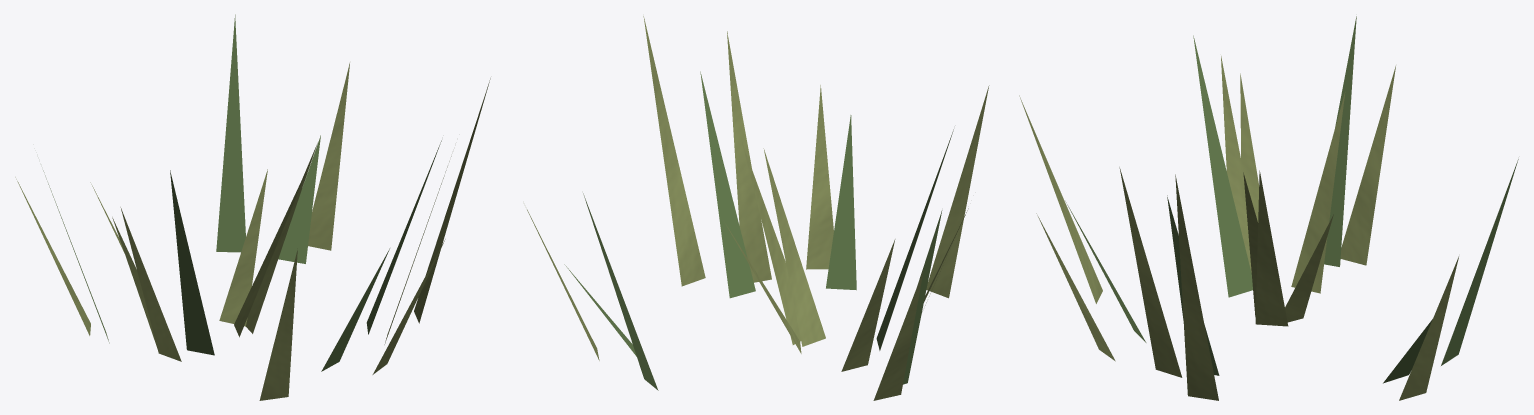
Rendered from grass_clump_01.glb.
3 renders of one model, left to right at view 1: azimuth 30°, elevation 25°; view 2: azimuth 150°, elevation 25°; view 3: azimuth 270°, elevation 25°, orthographic. The views are drawn at different scales.
Visible parts, largest first — view 1: grass_clump_01; view 2: grass_clump_01; view 3: grass_clump_01.
Part boxes in pixels (box(x1,y1,x2,y2)): grass_clump_01: box(15, 14, 490, 400); grass_clump_01: box(527, 16, 989, 400); grass_clump_01: box(1019, 16, 1518, 400).
Bounding box in the file's own units: 0.625 × 0.3772 × 0.6636.
2 materials, 1 textured.
